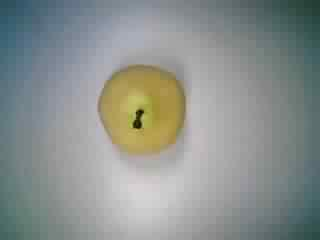pear: (85, 59, 191, 162)
